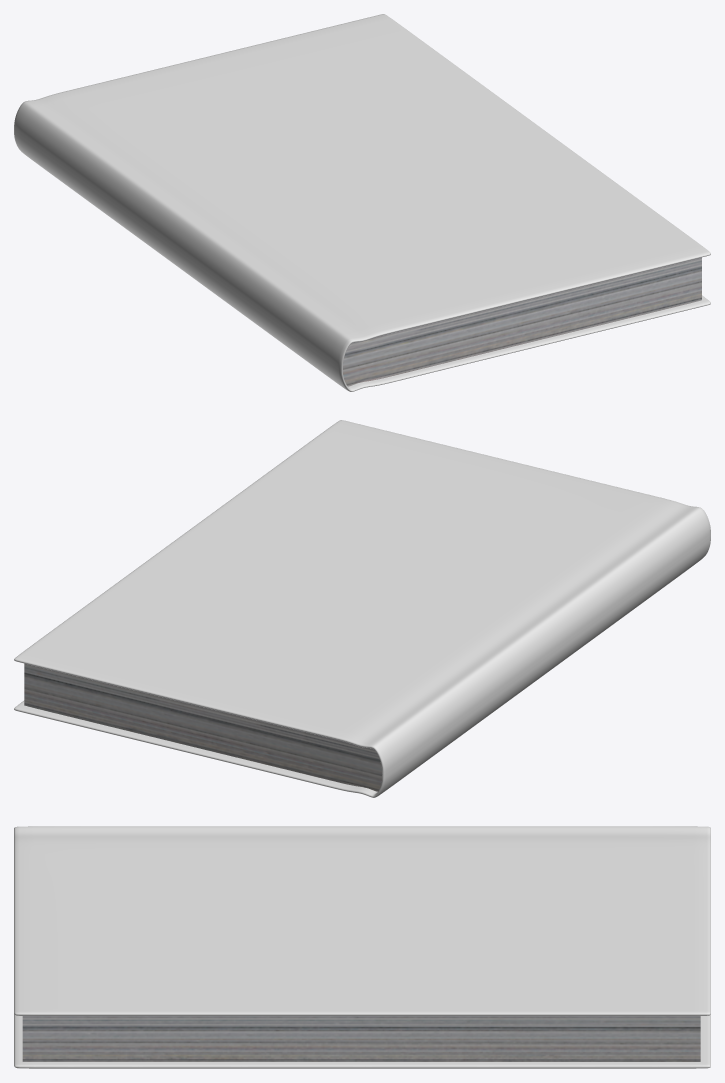
The model's file is Book_ST54QAG.obj.
3 views of the same model, one above another, from view 1: azimuth 30°, elevation 25°; view 2: azimuth 150°, elevation 25°; view 3: azimuth 270°, elevation 25° (orthographic). The views are drawn at different scales.
Visible parts, largest first — view 1: BookCover, BookPages; view 2: BookCover, BookPages; view 3: BookCover, BookPages.
Part boxes in pixels (x1,y1,x2,y2): BookCover: [14, 14, 710, 391]; BookPages: [343, 257, 701, 386]; BookCover: [14, 420, 710, 797]; BookPages: [24, 663, 381, 791]; BookCover: [14, 826, 710, 1068]; BookPages: [22, 1016, 700, 1061].
Size of the model in its own units: 21 by 2.86 by 32.08.
Materials: 2 (2 with a texture image).
